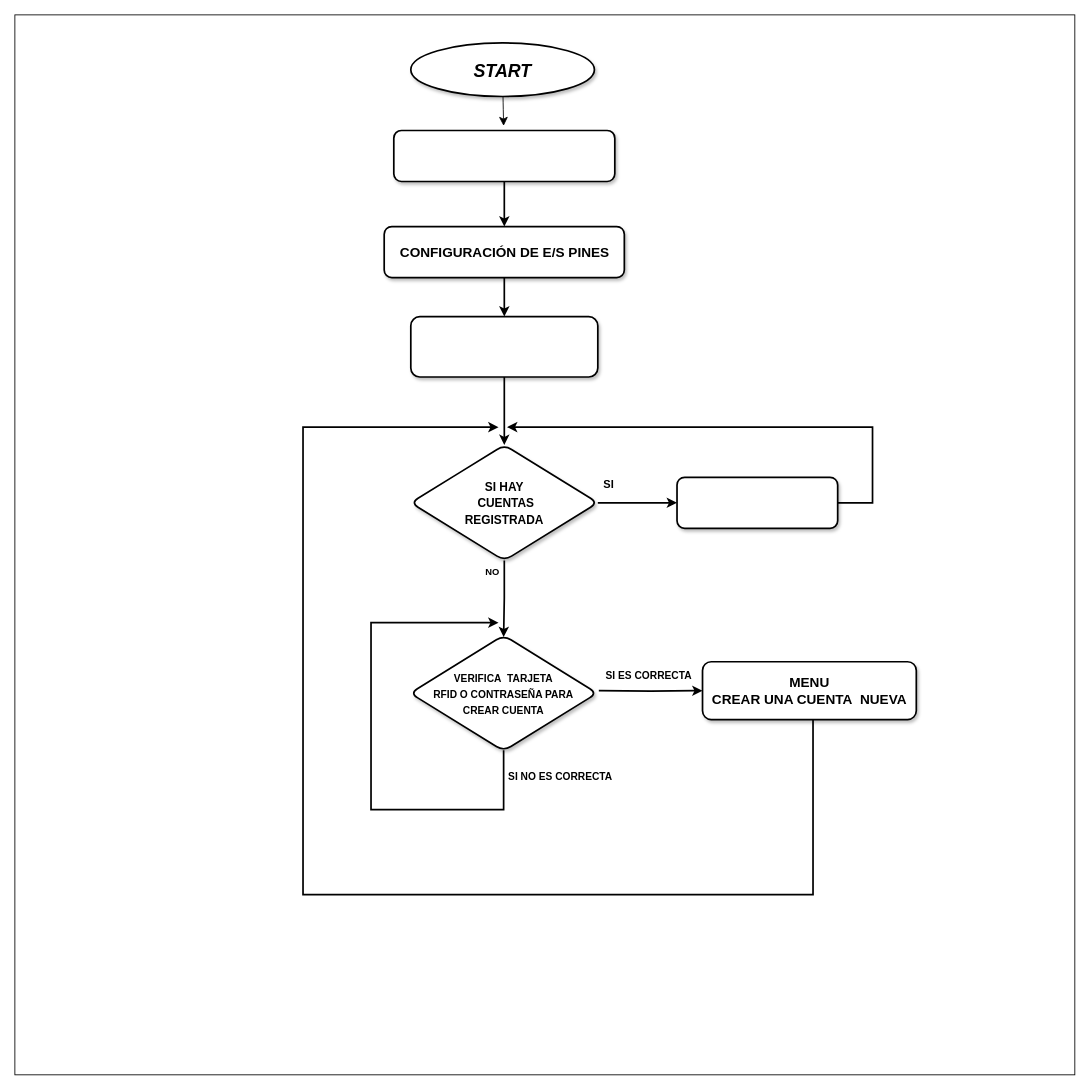
Some shapes in this 1090 by 1090 pixel diagram are drawn without their labels. The centre of each missing label's shape, as x and y in pixels:
CONFIGURACION Y CONEXION DE WIFI: the point at 504,347
DECLARACIÓN DE LIBRERÍA: the point at 504,157
MENU PRINCIPAL: the point at 757,504
